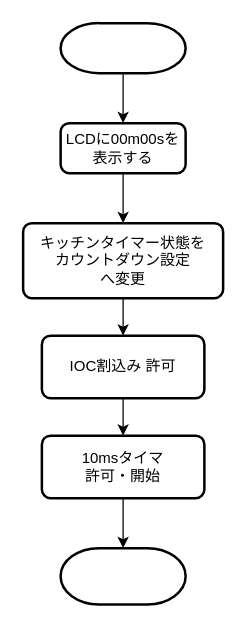
This 245x626 diagram has some shape labels left out. Each missing label, with the centre of its shape:
end: the point at 122,575
初期設定: the point at 122,47
